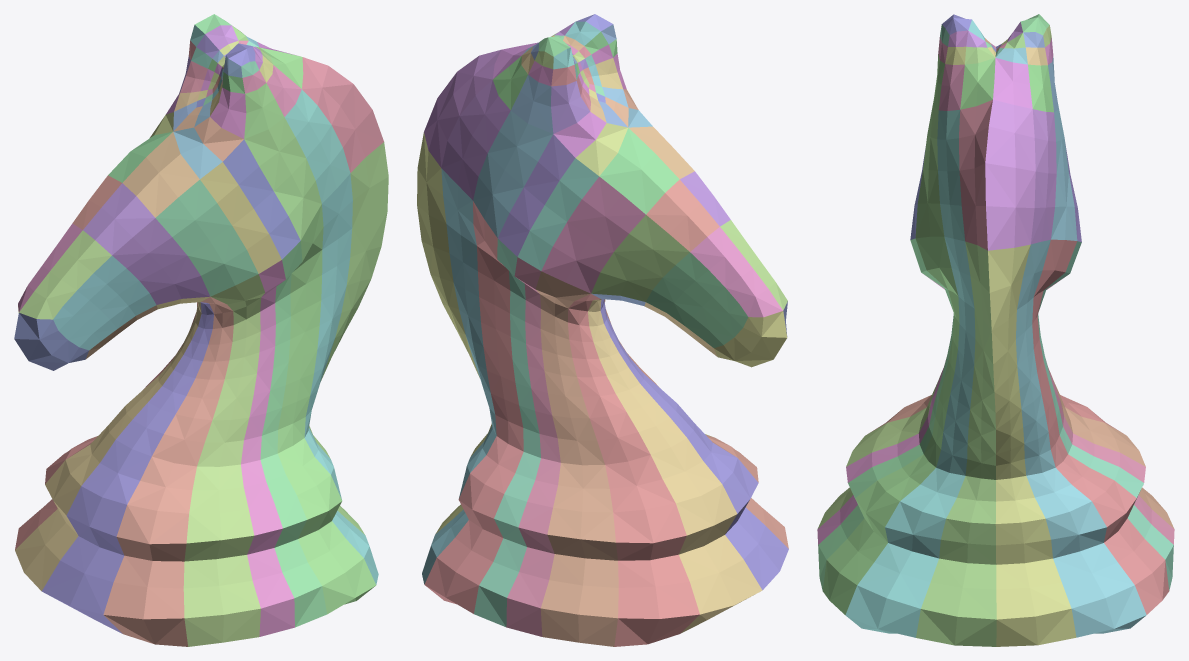
The model's file is horse03b_patch_color.obj.
3 views of the same model, side by side, from view 1: azimuth 30°, elevation 25°; view 2: azimuth 150°, elevation 25°; view 3: azimuth 270°, elevation 25° (orthographic). The views are drawn at different scales.
Bounding box in the file's own units: 3.4 × 4.76 × 2.65.
